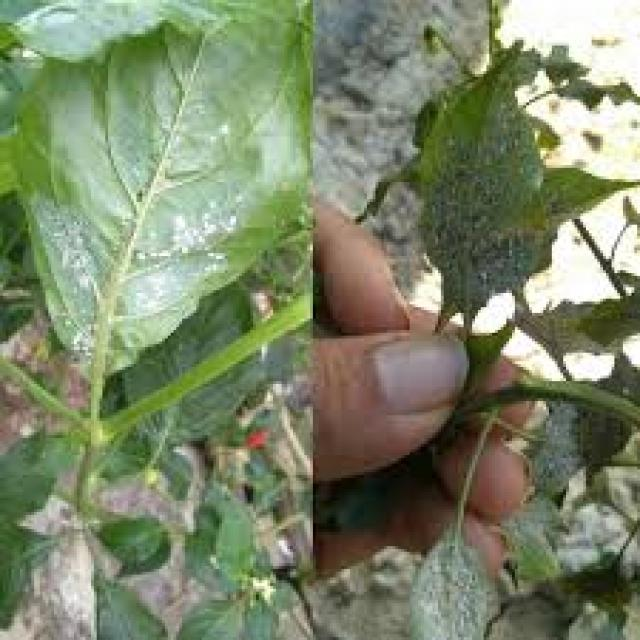Pestalotiopsis: (41, 164, 251, 332), (92, 424, 228, 606), (0, 481, 106, 640), (450, 91, 530, 282), (296, 531, 434, 634), (316, 0, 437, 116), (542, 406, 620, 511), (440, 547, 506, 640)
